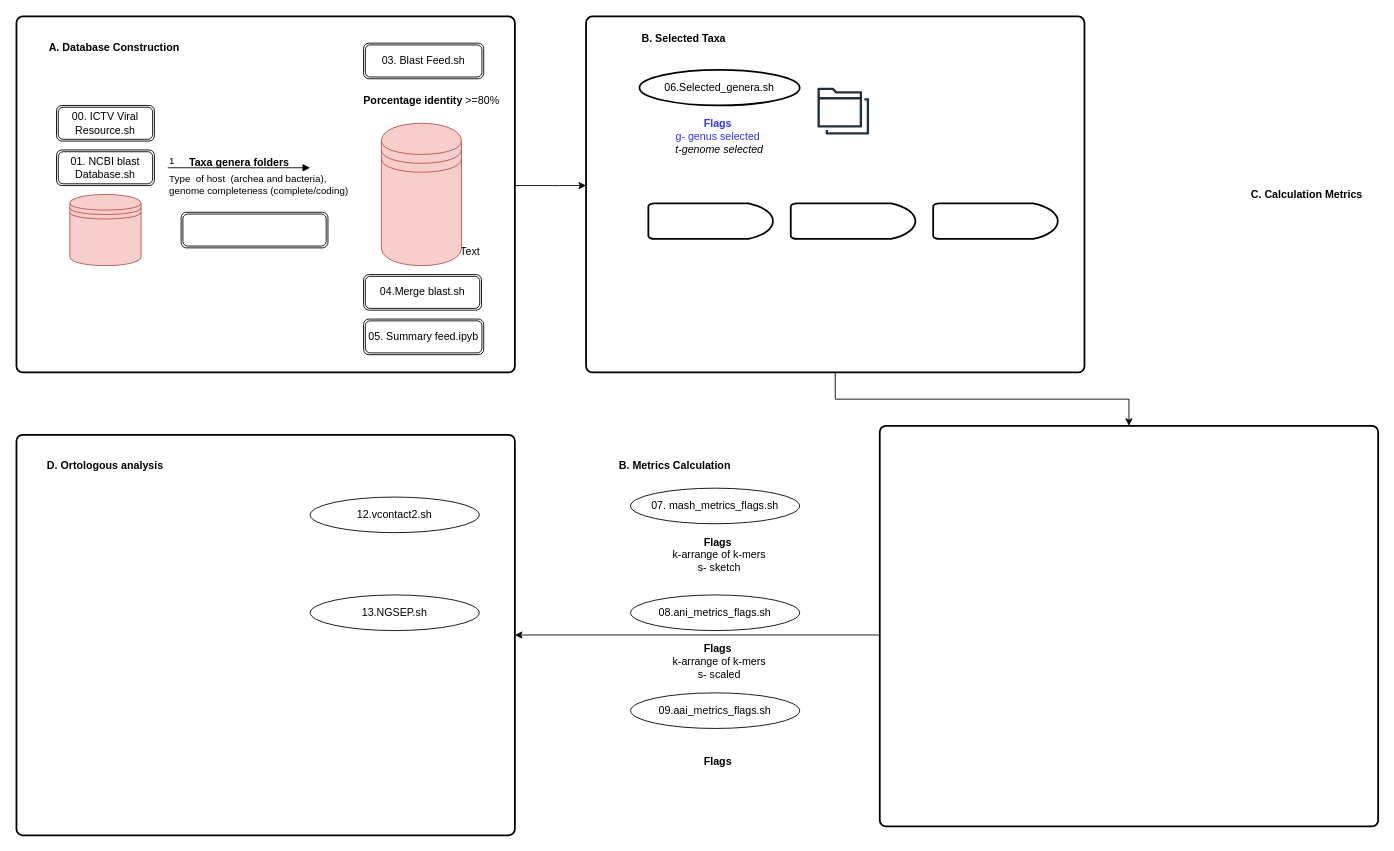
The diagram is 1394 pixels wide and 851 high, and some of its shapes have lost their labels. Here are the shapes that lost their labels. From the top down, the centre of each, then its label:
At (843,110): ".fasta".
At (420,194): "NCBI RefSeq".
At (254,229): "02. Taxa curation level.sh".
